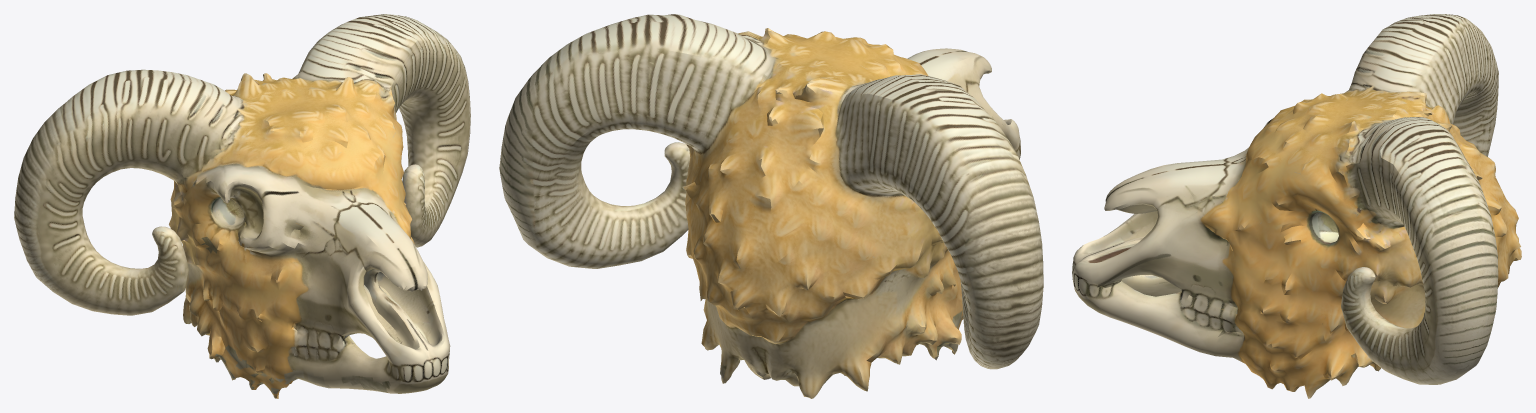
File: Aries.obj
3 views of the same model, side by side, from view 1: azimuth 30°, elevation 25°; view 2: azimuth 150°, elevation 25°; view 3: azimuth 270°, elevation 25° (orthographic). The views are drawn at different scales.
Parts seen in each view (by area): view 1: Meshy_AI_Golden_Ram_Skull_0531152658_texture; view 2: Meshy_AI_Golden_Ram_Skull_0531152658_texture; view 3: Meshy_AI_Golden_Ram_Skull_0531152658_texture.
Boxes of the visible parts, box(x1,y1,x2,y2) form: Meshy_AI_Golden_Ram_Skull_0531152658_texture: box(14, 14, 470, 398); Meshy_AI_Golden_Ram_Skull_0531152658_texture: box(499, 14, 1043, 398); Meshy_AI_Golden_Ram_Skull_0531152658_texture: box(1072, 14, 1521, 398).
Bounding box in the file's own units: 1.91 × 1.14 × 1.64.
Materials: 1 (1 with a texture image).
